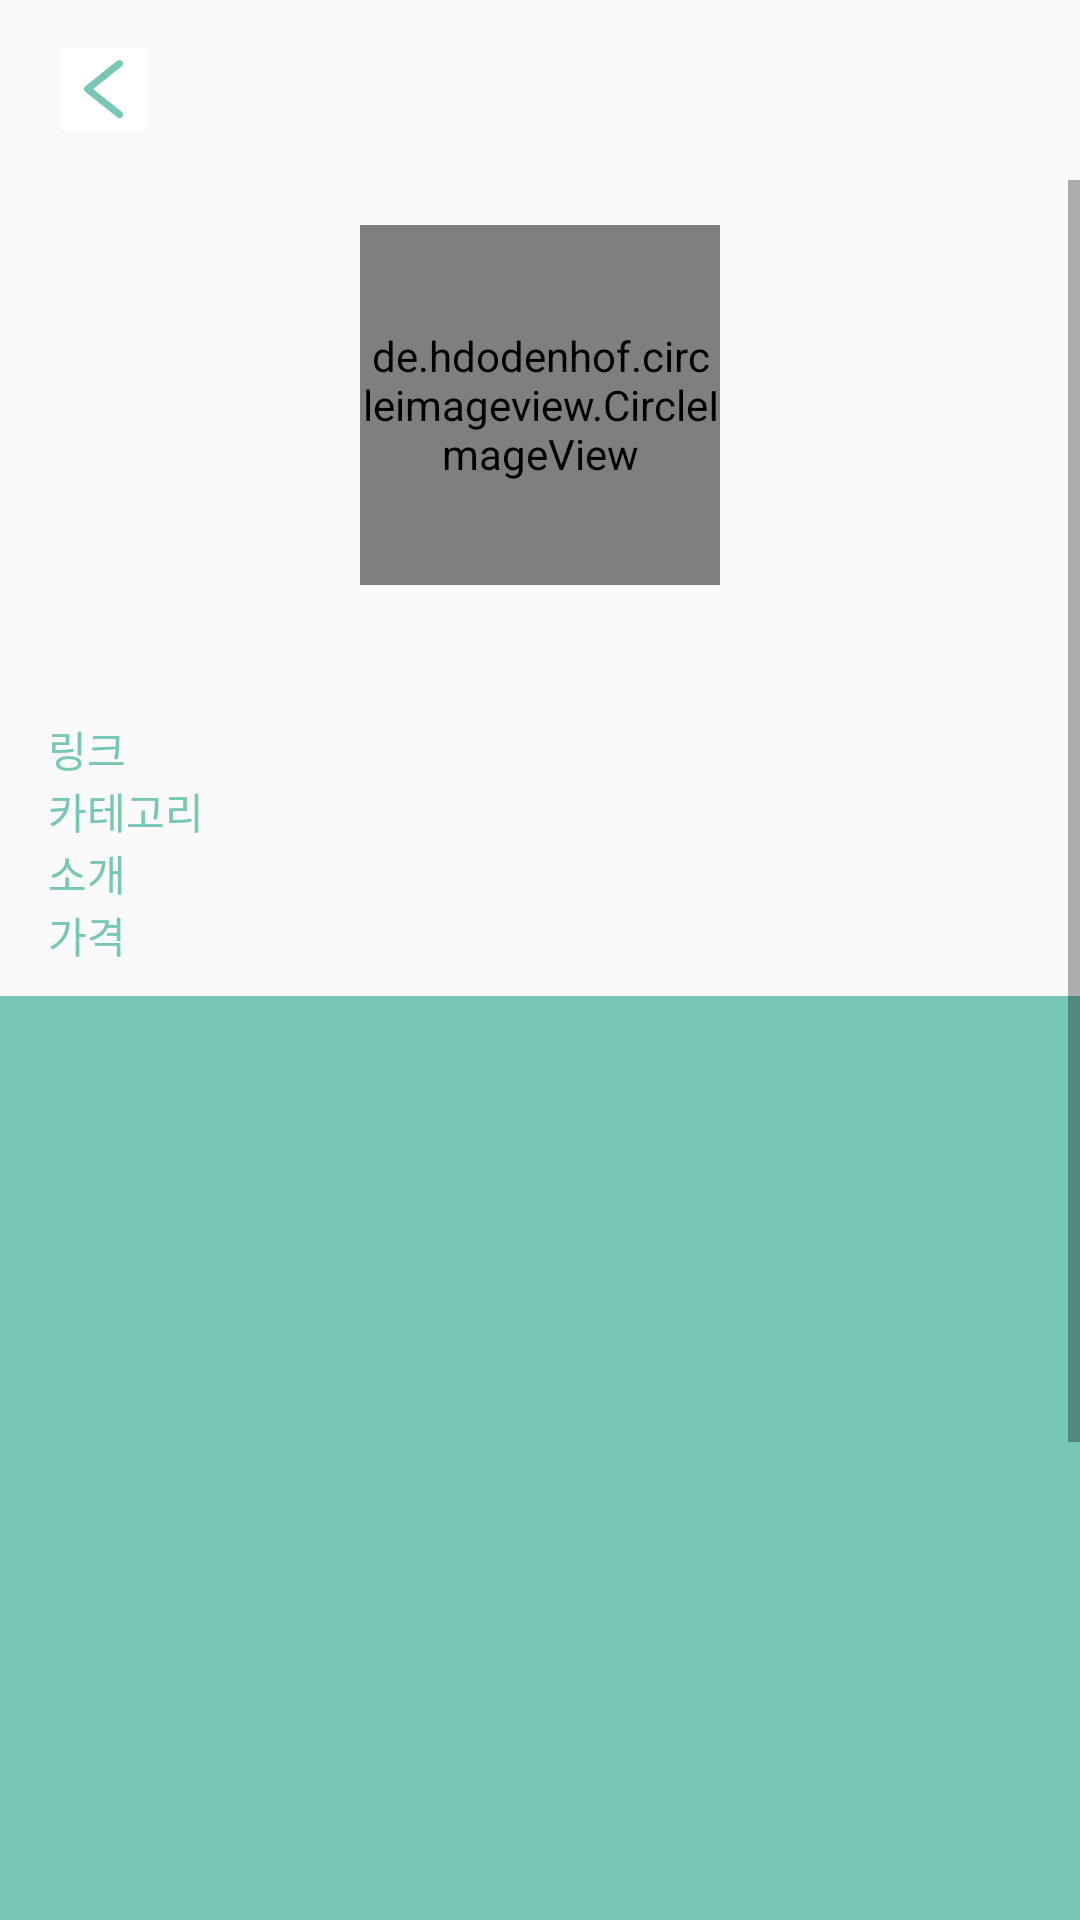

Point at icon controls on the screen. Image size 1080 x 1920, points as (x=x, y=y).
back: (x=103, y=89)
